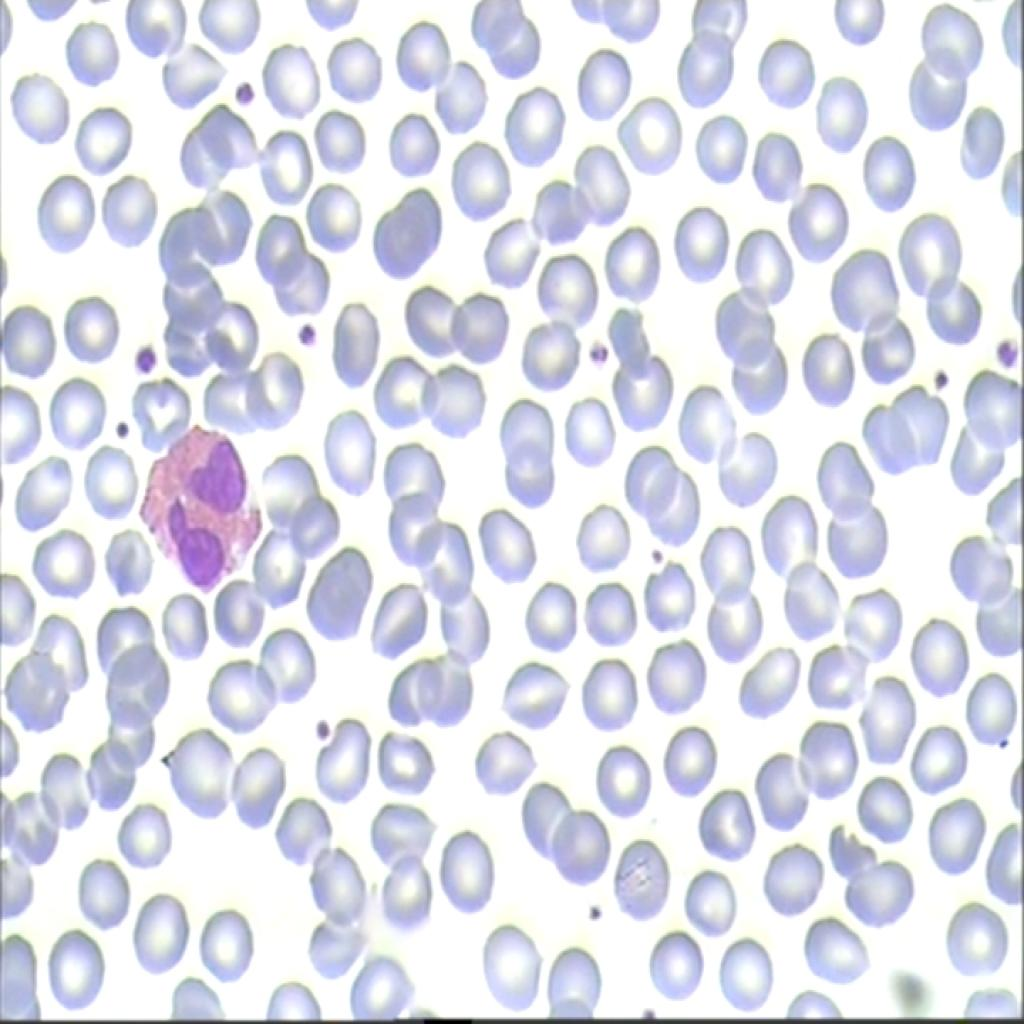Eosinofil: (141, 411, 269, 601)
Platelet: (124, 327, 160, 389), (583, 324, 620, 384), (992, 322, 1022, 386), (307, 697, 346, 745), (101, 403, 131, 457), (929, 358, 961, 404), (286, 316, 323, 352), (227, 66, 249, 110), (646, 526, 670, 564), (576, 889, 604, 921), (634, 1001, 670, 1022)
